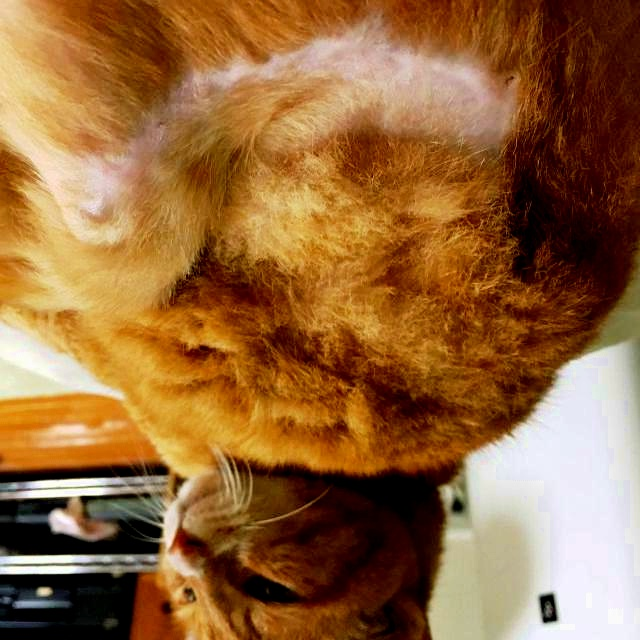hairloss: (290, 38, 494, 151)
